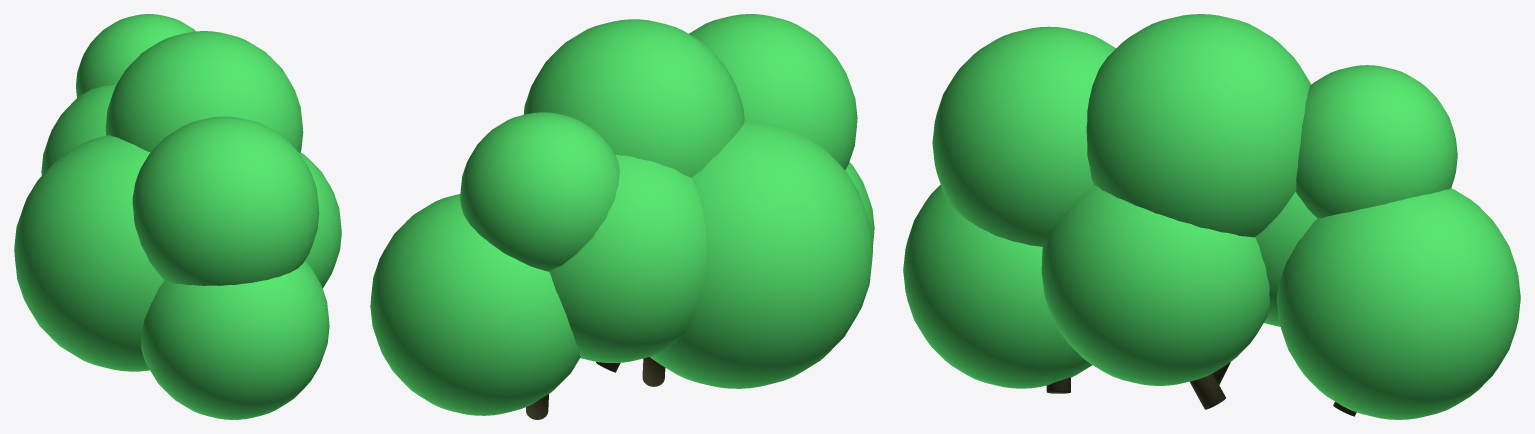
The model's file is struik.fbx.
The picture shows the model from 3 angles, left to right: view 1: azimuth 30°, elevation 25°; view 2: azimuth 150°, elevation 25°; view 3: azimuth 270°, elevation 25°; orthographic projection. The views are drawn at different scales.
Parts seen in each view (by area): view 1: struik; view 2: struik; view 3: struik.
Boxes of the visible parts, x1,y1,x2,y2 form: struik: (14,14,341,419); struik: (370,14,874,419); struik: (903,14,1520,419).
Bounding box in the file's own units: 188 × 170 × 252.
